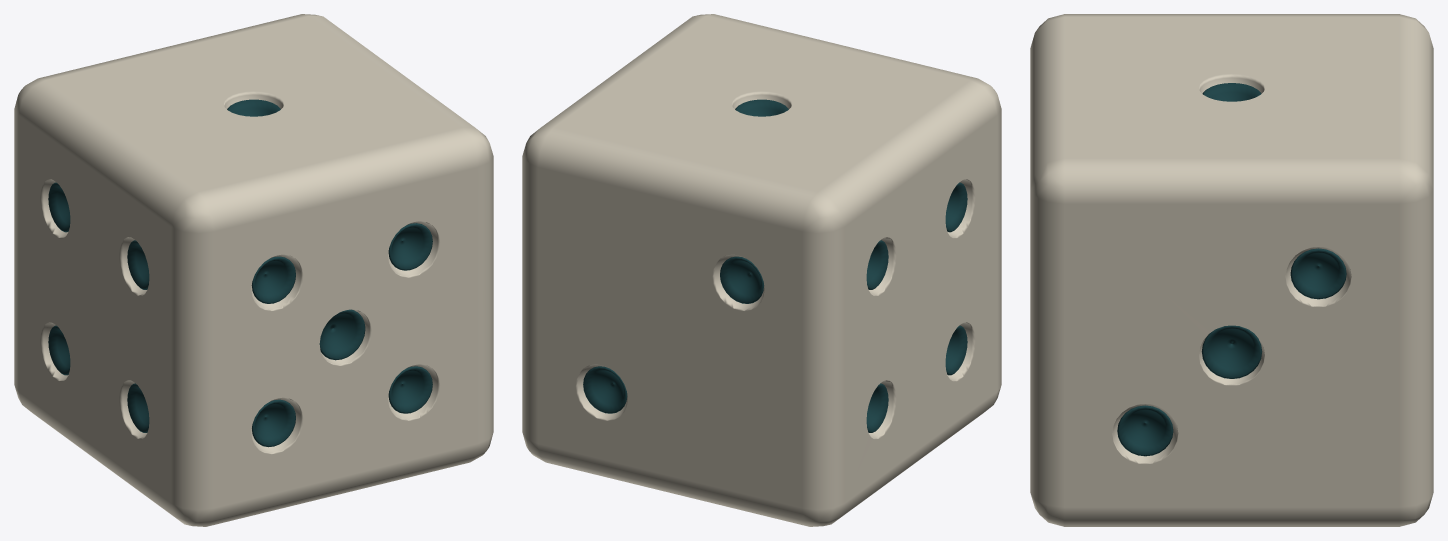
File: ceramic_dice_atelier.glb
3 renders of one model, left to right at view 1: azimuth 30°, elevation 25°; view 2: azimuth 150°, elevation 25°; view 3: azimuth 270°, elevation 25°, orthographic. The views are drawn at different scales.
Visible parts, largest first — view 1: ceramic_dice_atelier__Painted_ceramic_dice_atelier_Glaze; view 2: ceramic_dice_atelier__Painted_ceramic_dice_atelier_Glaze; view 3: ceramic_dice_atelier__Painted_ceramic_dice_atelier_Glaze.
Part boxes in pixels (x1,y1,x2,y2): ceramic_dice_atelier__Painted_ceramic_dice_atelier_Glaze: (14, 14, 493, 526); ceramic_dice_atelier__Painted_ceramic_dice_atelier_Glaze: (522, 14, 1001, 526); ceramic_dice_atelier__Painted_ceramic_dice_atelier_Glaze: (1030, 14, 1433, 526).
Bounding box in the file's own units: 1.35 × 1.35 × 1.35.
